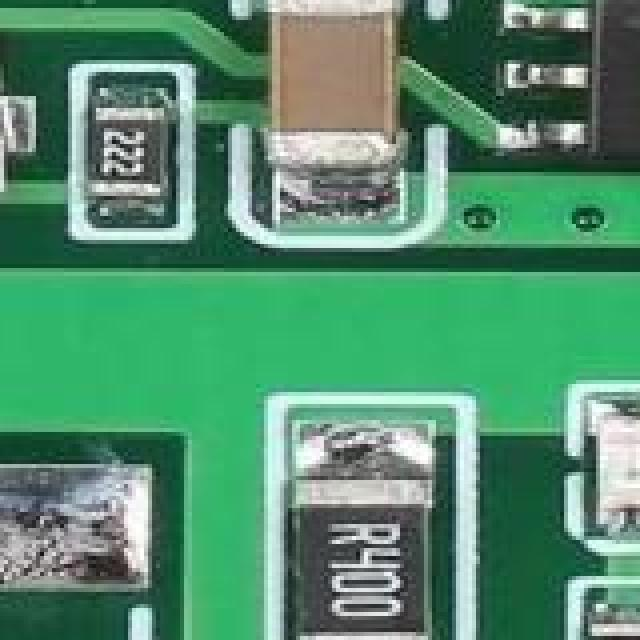IC: (552, 0, 640, 184)
LED: (592, 404, 640, 536)
capacitor: (252, 0, 404, 184)
resistor: (300, 448, 464, 640), (80, 80, 180, 228), (584, 596, 640, 640)
